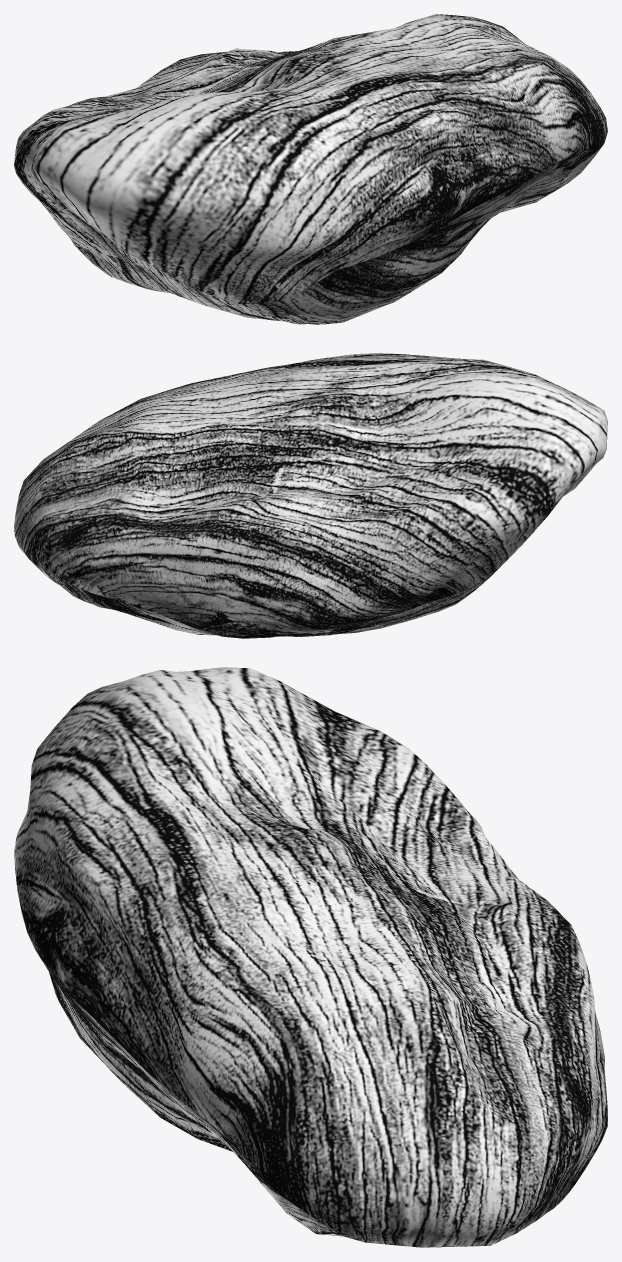
Rendered from Rubidium.fbx.
The picture shows the model from 3 angles, top to bottom: view 1: azimuth 30°, elevation 25°; view 2: azimuth 150°, elevation 25°; view 3: azimuth 270°, elevation 25°; orthographic projection. The views are drawn at different scales.
Parts seen in each view (by area): view 1: Rubidium; view 2: Rubidium; view 3: Rubidium.
Boxes of the visible parts, x1,y1,x2,y2 form: Rubidium: (14,14,607,324); Rubidium: (14,353,607,638); Rubidium: (14,667,607,1247).
Size of the model in its own units: 326 by 134 by 224.
